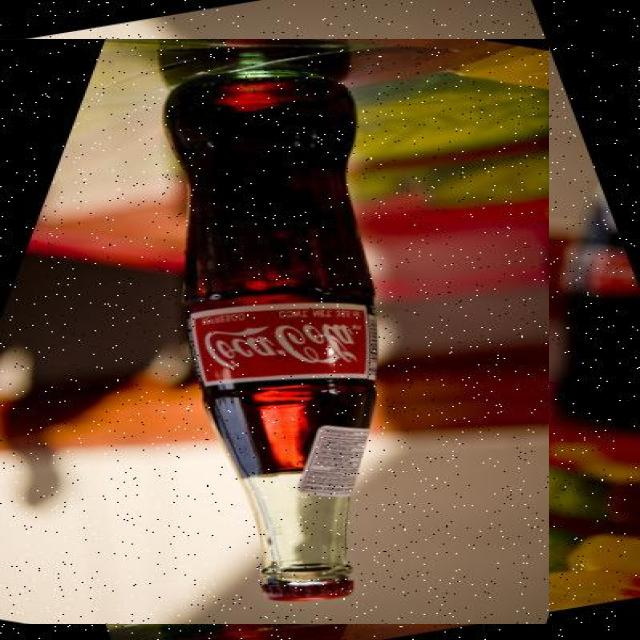coca-cola: (0, 39, 549, 624)
